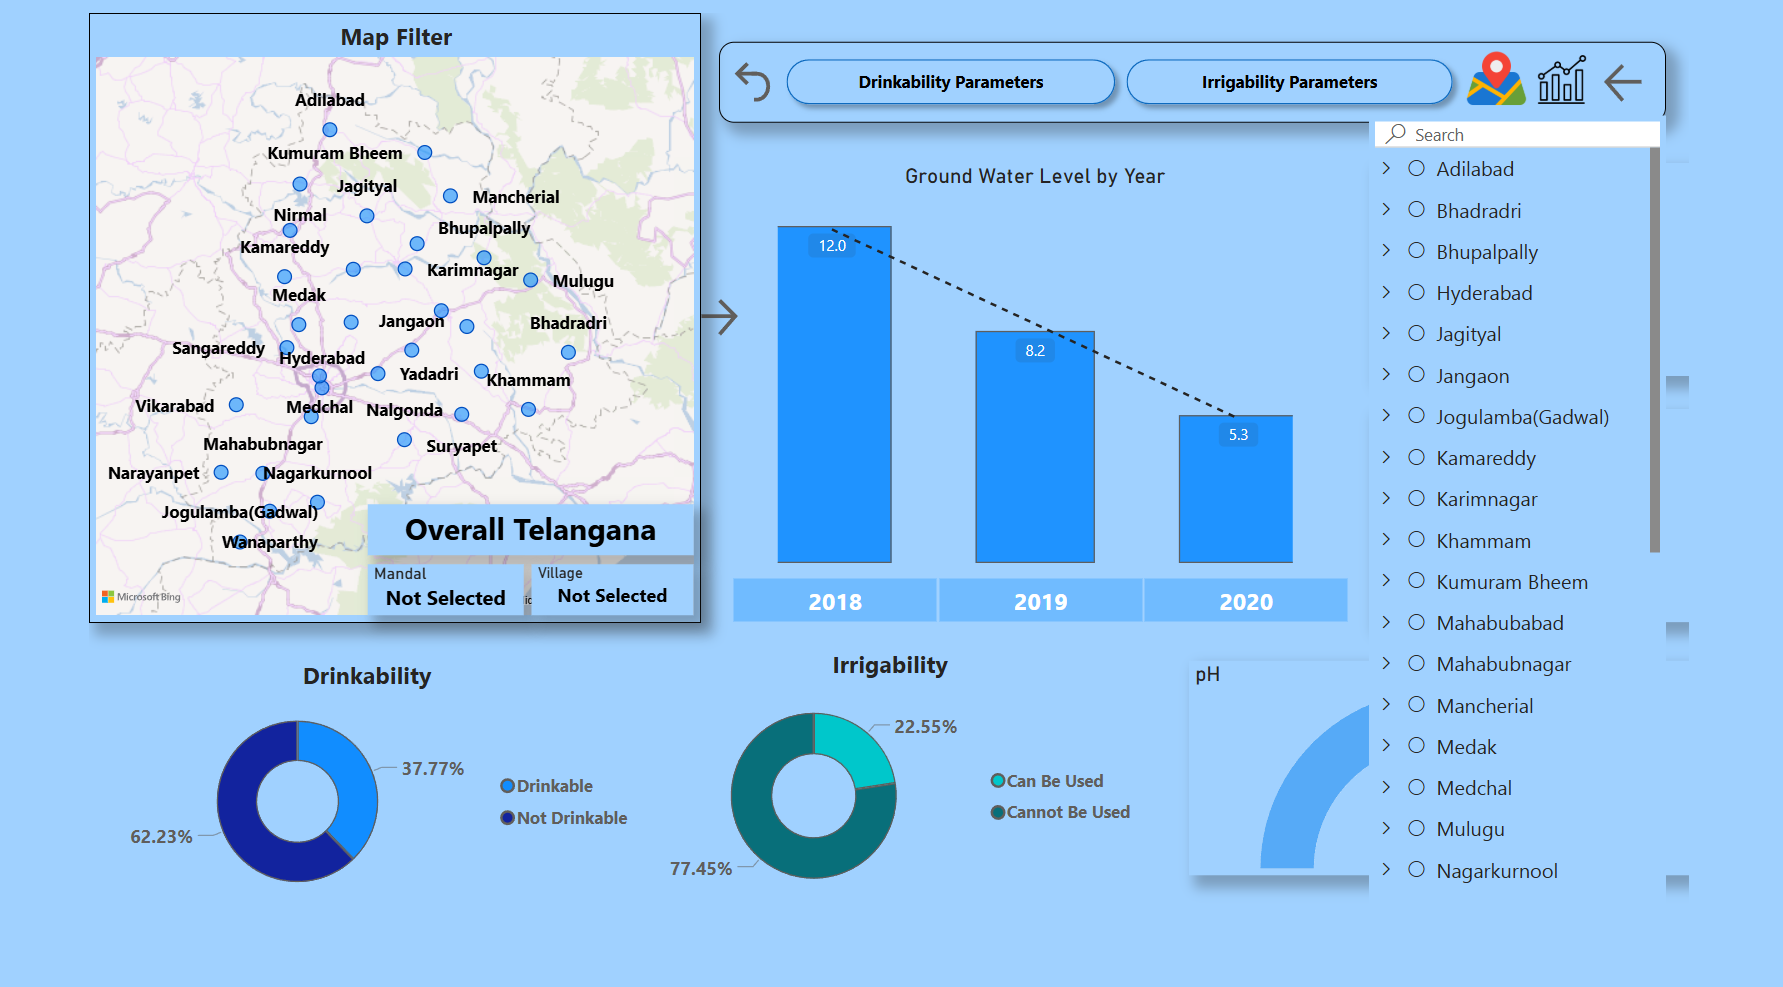

This screenshot's page, from the dashboard's own definition file:
{"tool":"powerbi","page":{"name":"Home","canvas":[1280,720],"ordinal":3},"visuals":[{"type":"actionButton","box":[483.6,223.9,119.4,38.8],"z":0},{"type":"card","title":"District","fields":{"Values":["Water Measures.Drill District"]},"box":[222.7,392.5,261.2,41.5],"z":0,"group":"g2"},{"type":"slicer","title":"Year Filter","fields":{"Values":["Cleaned Data.Year"]},"box":[489.5,445.9,541,47.5],"z":0,"group":"g1"},{"type":"shape","title":"Back Bar Base","box":[503.5,23.1,758.9,64.9],"z":1000},{"type":"clusteredColumnChart","fields":{"Category":["Cleaned Data.Year"],"Y":["Water Measures.Ground Water Level"]},"box":[530.3,119.7,452.5,326.2],"z":1000,"group":"g1"},{"type":"card","title":"Mandal","fields":{"Values":["Water Measures.Drill Mandal"]},"box":[222.8,440.3,125.1,41.1],"z":1000,"group":"g2"},{"type":"card","title":"Hardness","fields":{"Values":["Water Measures.Hardness"]},"box":[1024.4,317.4,255.4,170.2],"z":2000},{"type":"card","title":"Village","fields":{"Values":["Water Measures.Drill Village"]},"box":[353.8,440.3,130.1,41.1],"z":2000,"group":"g2"},{"type":"textbox","box":[222.7,385.6,42.4,28.3],"z":3000,"group":"g2"},{"type":"gauge","fields":{"Y":["Water Measures.pH"]},"box":[880.1,518,399.6,171.7],"z":3000},{"type":"card","title":"TDS","fields":{"Values":["Water Measures.TDS"]},"box":[1025,120.3,254.7,170.3],"z":4000},{"type":"donutChart","title":"Drinkability","fields":{"Y":["Water Measures.DrinkableCount","Water Measures.NotDrinkableCount"]},"box":[0,517.5,445.3,202.8],"z":5000},{"type":"donutChart","title":"Irrigability","fields":{"Y":["Water Measures.IrrigationCount","Water Measures.NotIrrigationCount"]},"box":[434.3,507.9,414.1,212.1],"z":6000},{"type":"actionButton","title":"Reset View","box":[510.4,34.3,43.3,41.8],"z":7000},{"type":"group","id":"g1","title":"GWL By Year","box":[489.5,119.7,541,373.7],"z":8000},{"type":"shape","title":"Drinkability Button","box":[549.3,28.4,280.6,53.7],"z":9000},{"type":"shape","title":"Irrigability Button","box":[820.9,28.4,279.1,53.7],"z":10000},{"type":"azureMap","title":"Map Filter","fields":{"Y":["Avg(Cleaned Data.Latitude)"],"X":["Avg(Cleaned Data.Longitude)"],"Category":["Cleaned Data.District Hierarchy.District","Cleaned Data.District Hierarchy.Mandal","Cleaned Data.District Hierarchy.Village"]},"box":[0,0,490.1,487.6],"z":11000},{"type":"image","title":"Search","box":[1200,26.9,61.2,58.2],"z":13000},{"type":"image","box":[1153.7,28.4,49.3,50.7],"z":16000},{"type":"image","box":[1094,20.9,64.2,62.7],"z":17000},{"type":"group","id":"g2","title":"Location Names","box":[222.7,385.6,261.2,95.8],"z":22000}]}

Visuals, with their boxes in screenshot pixels (x1, y1, x2, y2), scaled from the page's 1280x720 canvas onto the 1783x987 screenshot:
actionButton: rect(674, 307, 840, 360)
"District" card: rect(310, 538, 674, 595)
"Year Filter" slicer: rect(682, 611, 1435, 676)
"Back Bar Base" shape: rect(701, 32, 1758, 121)
clusteredColumnChart - Cleaned Data.Year x Water Measures.Ground Water Level: rect(739, 164, 1369, 611)
"Mandal" card: rect(310, 604, 485, 660)
"Hardness" card: rect(1427, 435, 1782, 668)
"Village" card: rect(493, 604, 674, 660)
textbox: rect(310, 529, 369, 567)
gauge - Water Measures.pH: rect(1226, 710, 1782, 945)
"TDS" card: rect(1428, 165, 1782, 398)
"Drinkability" donutChart: rect(0, 709, 620, 986)
"Irrigability" donutChart: rect(605, 696, 1182, 986)
"Reset View" actionButton: rect(711, 47, 771, 104)
"GWL By Year" group: rect(682, 164, 1435, 676)
"Drinkability Button" shape: rect(765, 39, 1156, 113)
"Irrigability Button" shape: rect(1143, 39, 1532, 113)
"Map Filter" azureMap: rect(0, 0, 683, 668)
"Search" image: rect(1672, 37, 1757, 117)
image: rect(1607, 39, 1676, 108)
image: rect(1524, 29, 1613, 115)
"Location Names" group: rect(310, 529, 674, 660)
